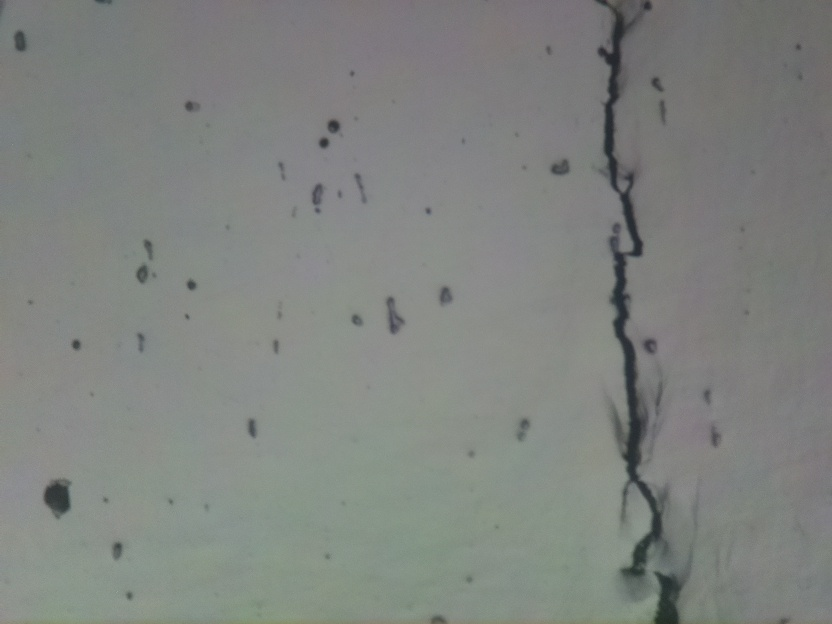crack: (598, 0, 685, 622)
